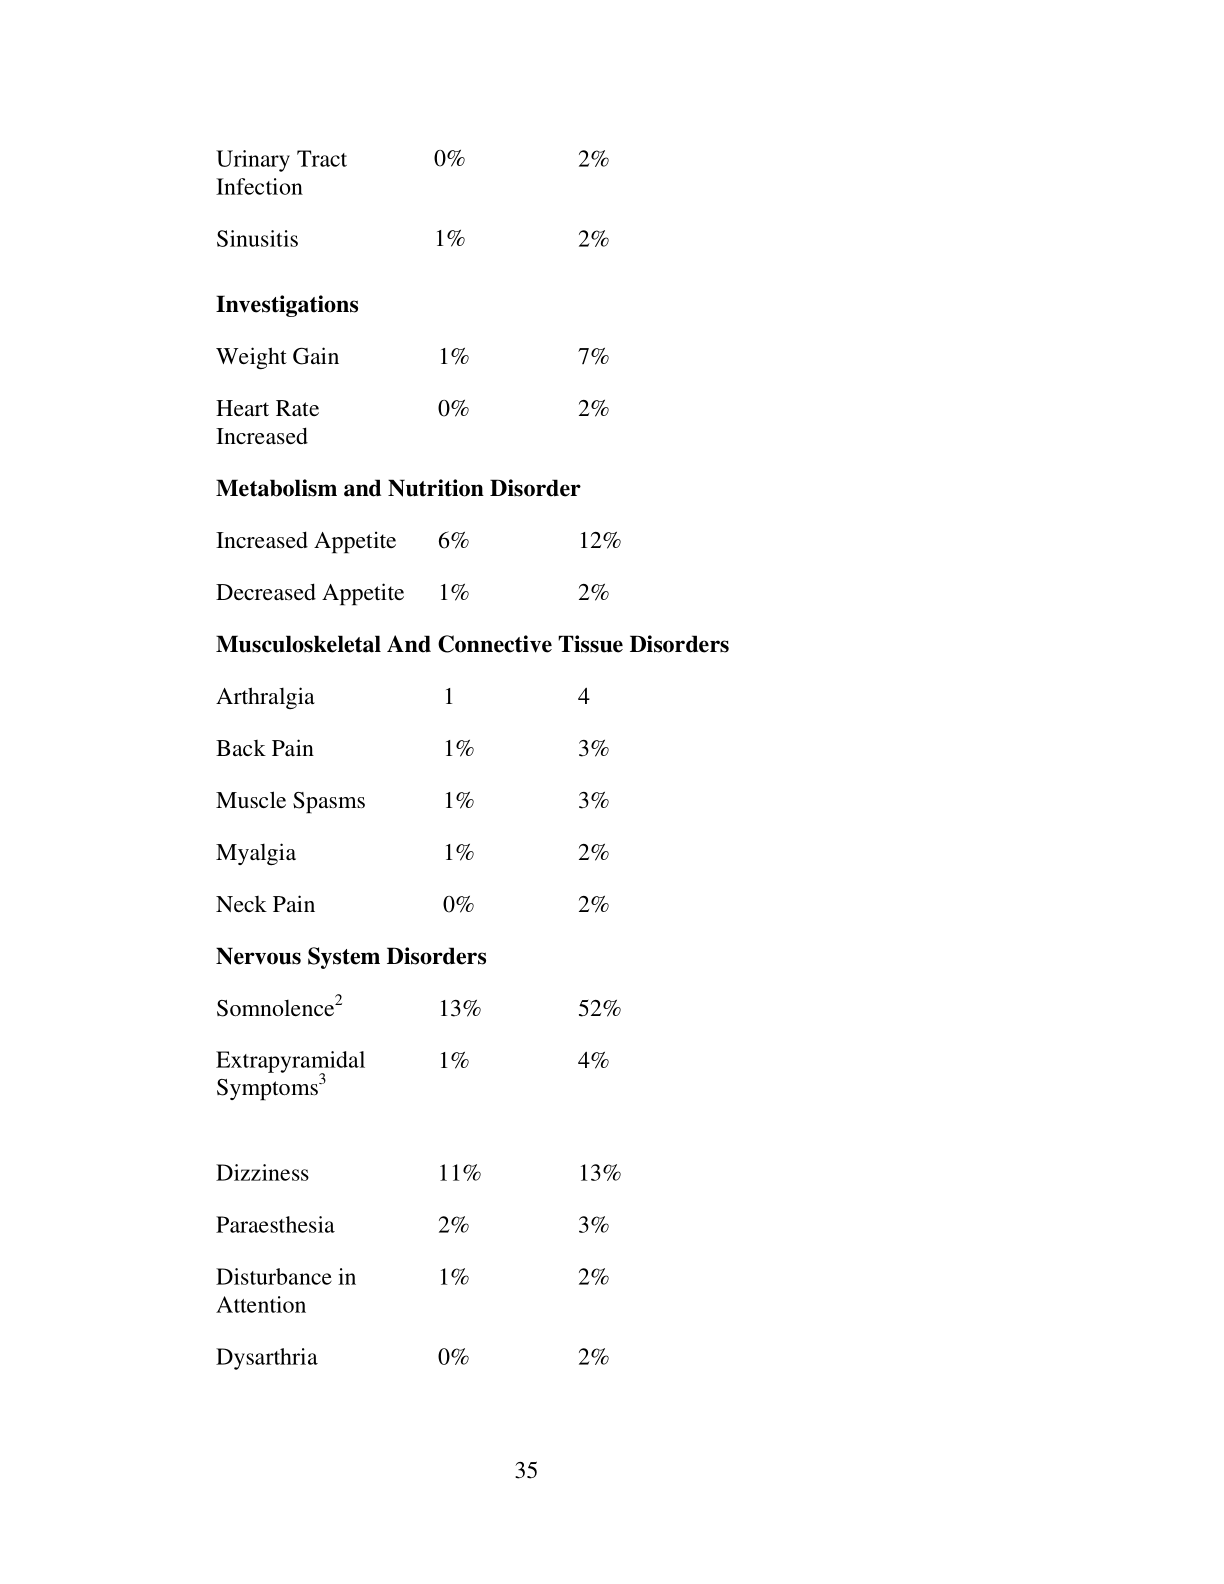nolines: (215, 145, 733, 1372)
